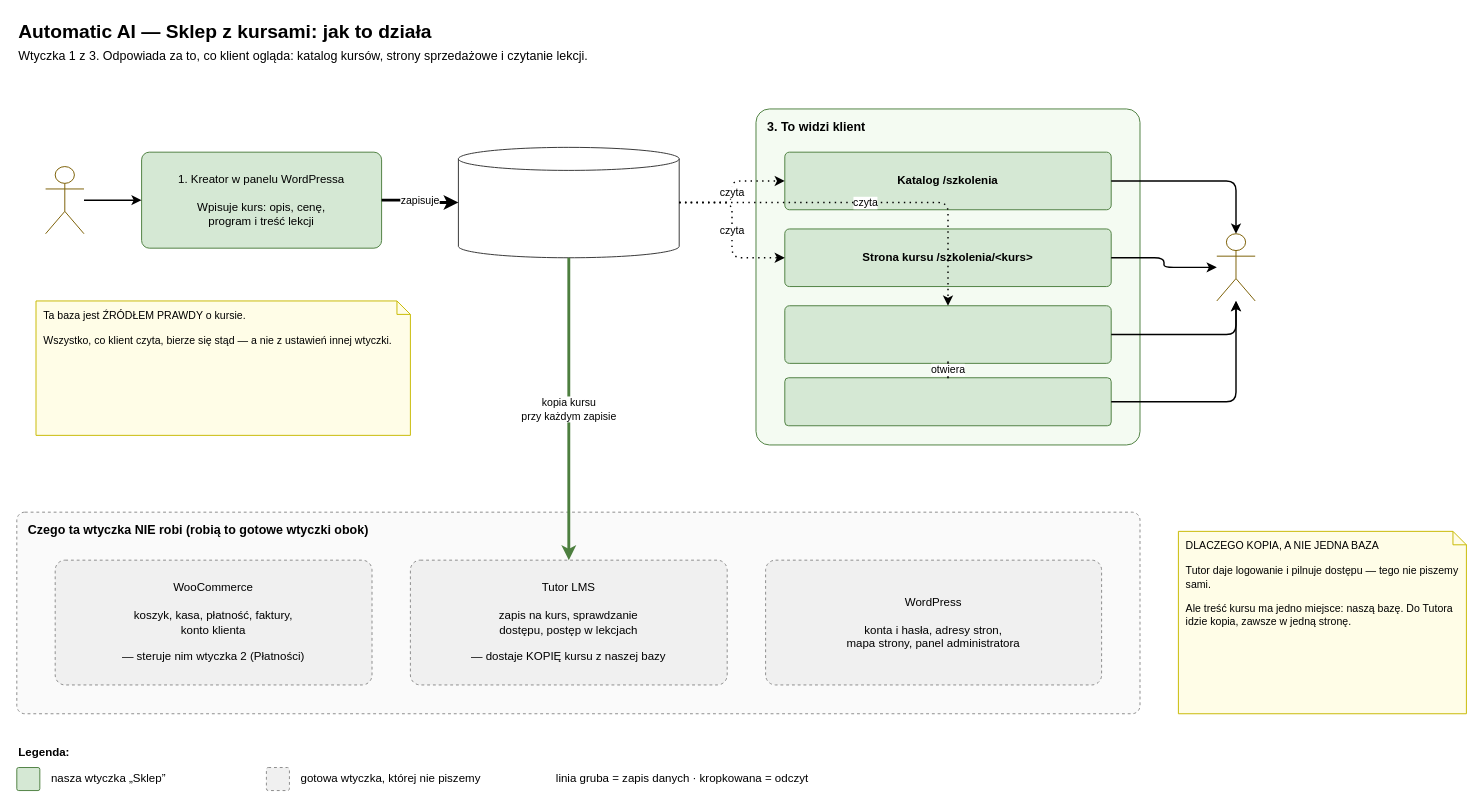
This 1483x807 diagram has some shape labels left out. The centre of each missing label's shape, as x and y in pixels:
2. Baza sklepu kursy · sekcje · program lekcje · dziennik zmian: (x=568, y=202)
Klient: (x=1235, y=267)
Lekcja — treść, za którą zapłacił: (x=947, y=401)
Moje kursy /szkolenia/moje: (x=947, y=334)
Właściciel: (x=64, y=200)
